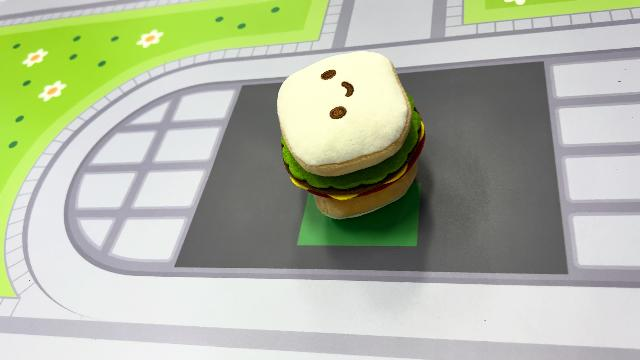sandwich: (273, 48, 427, 221)
